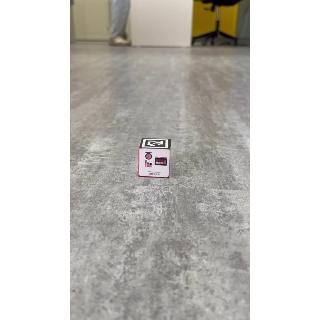Expired_Cosmetic: (139, 147, 171, 180)
